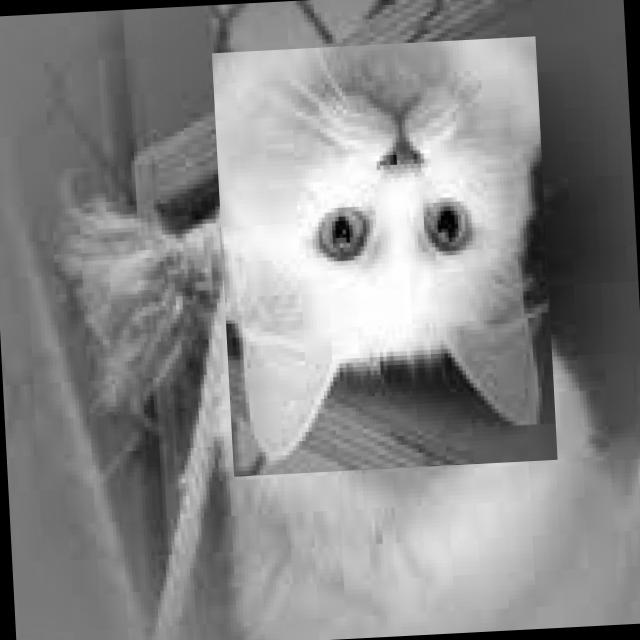van: (212, 36, 558, 477)
